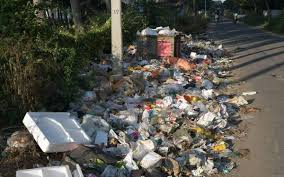garbage: (86, 62, 243, 177), (29, 113, 235, 177), (180, 37, 225, 127)
